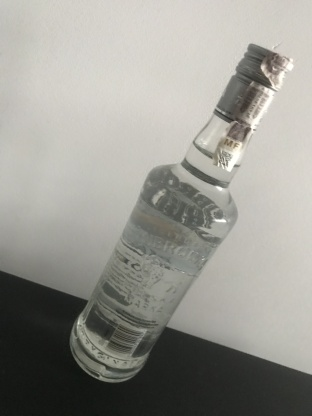nakretka: (211, 40, 295, 130)
